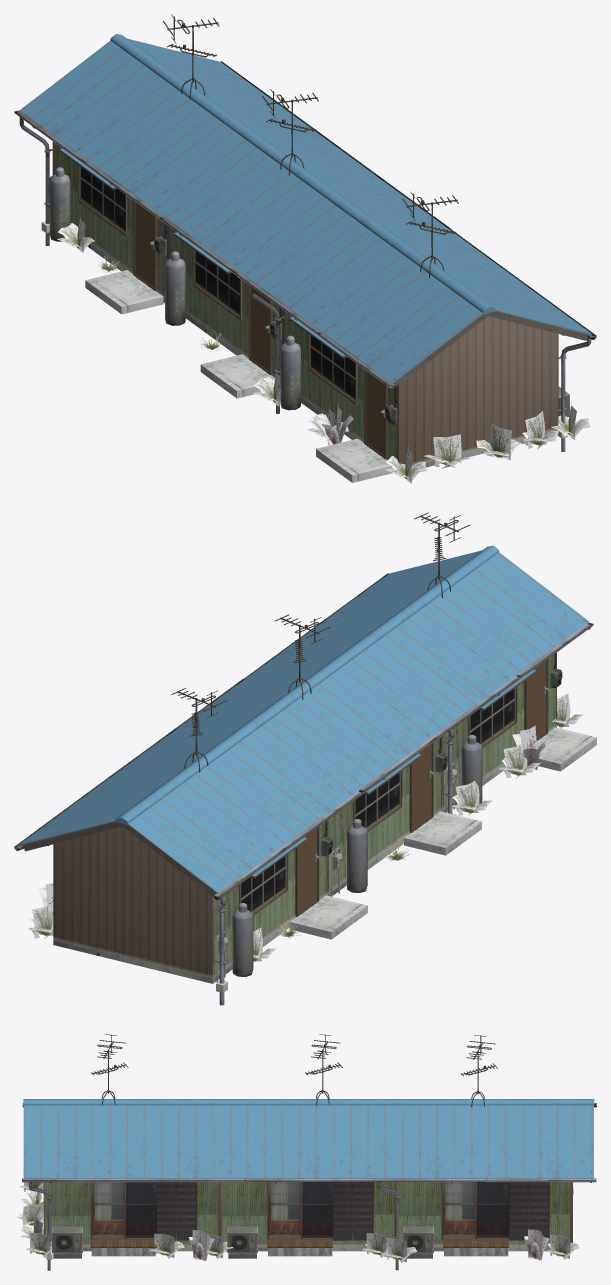
Rendered from houseset16.fbx.
3 views of the same model, one above another, from view 1: azimuth 30°, elevation 25°; view 2: azimuth 150°, elevation 25°; view 3: azimuth 270°, elevation 25° (orthographic). The views are drawn at different scales.
Parts seen in each view (by area): view 1: houseset16; view 2: houseset16; view 3: houseset16.
Part boxes in pixels (bbox=[...]): houseset16: bbox=[14, 14, 596, 483]; houseset16: bbox=[14, 512, 596, 1005]; houseset16: bbox=[14, 1034, 596, 1270].
Size of the model in its own units: 557 by 1494 by 550.
Materials: 9 (9 with a texture image).
